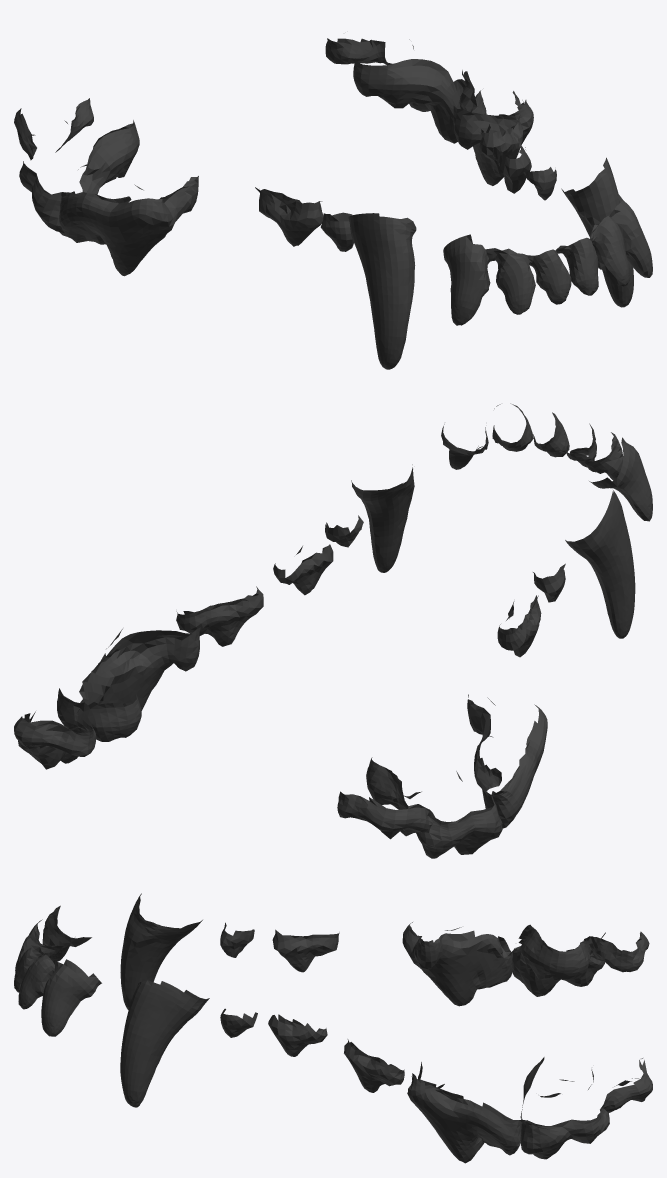
The picture shows the model from 3 angles, top to bottom: view 1: azimuth 30°, elevation 25°; view 2: azimuth 150°, elevation 25°; view 3: azimuth 270°, elevation 25°; orthographic projection. The views are drawn at different scales.
Visible parts, largest first — view 1: Group3565; view 2: Group3565; view 3: Group3565.
Part boxes in pixels (x1,y1,x2,y2): Group3565: (14,38,652,369); Group3565: (14,403,652,858); Group3565: (14,893,652,1163).
Bounding box in the file's own units: 0.8694 × 0.346 × 1.26.
Materials: 1 (1 with a texture image).
